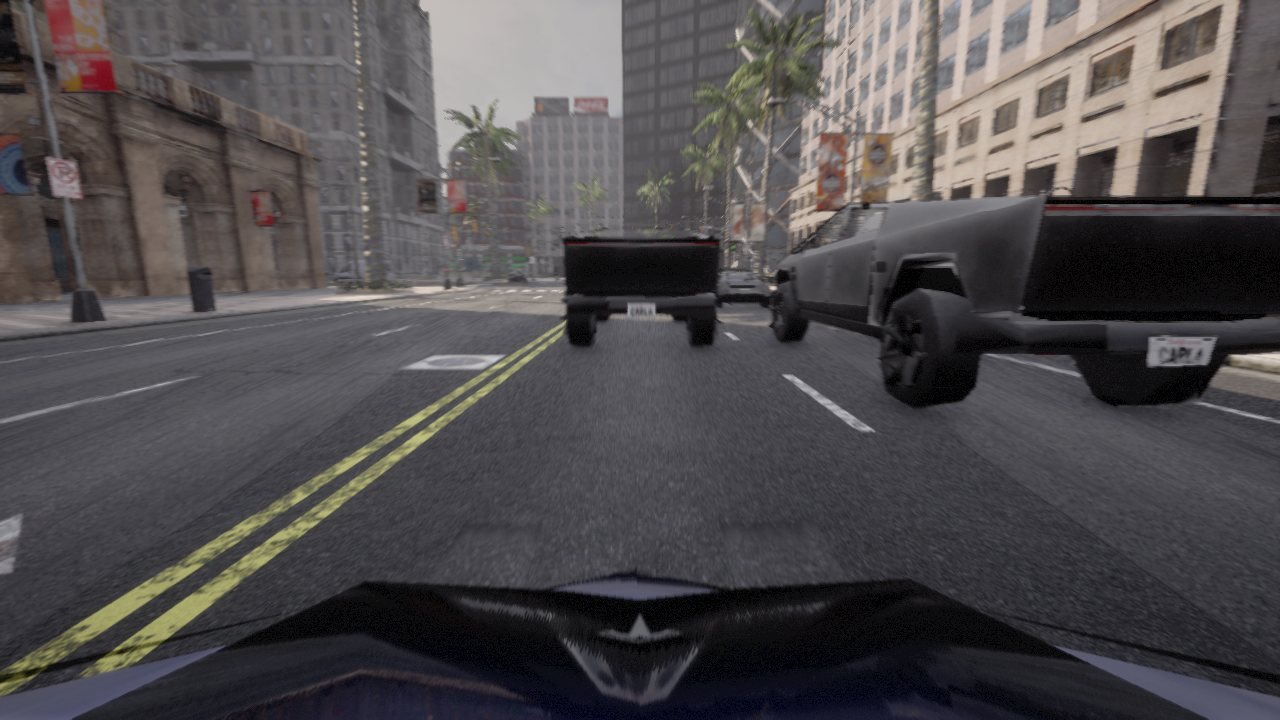cyclist: (0, 569, 1279, 719), (767, 196, 1279, 408), (561, 228, 722, 347), (715, 269, 770, 307), (333, 260, 394, 284), (509, 273, 527, 284)
